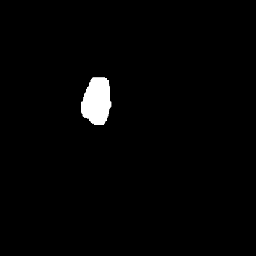mass: (82, 76, 110, 125)
